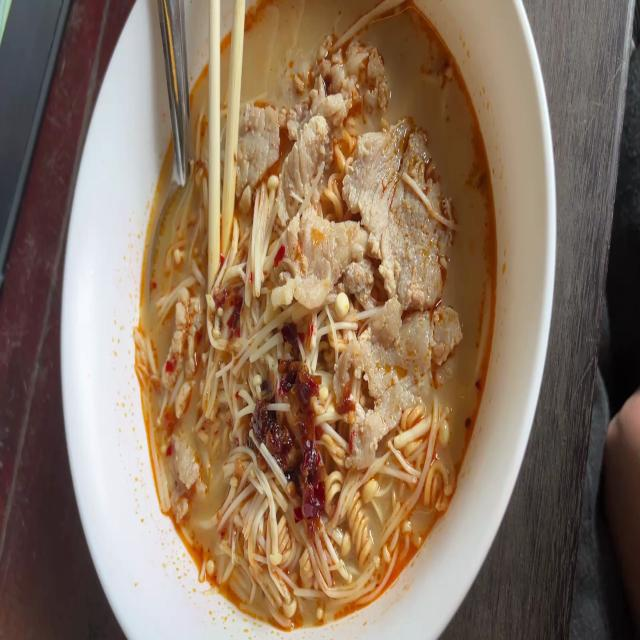noodle: (134, 0, 498, 624)
